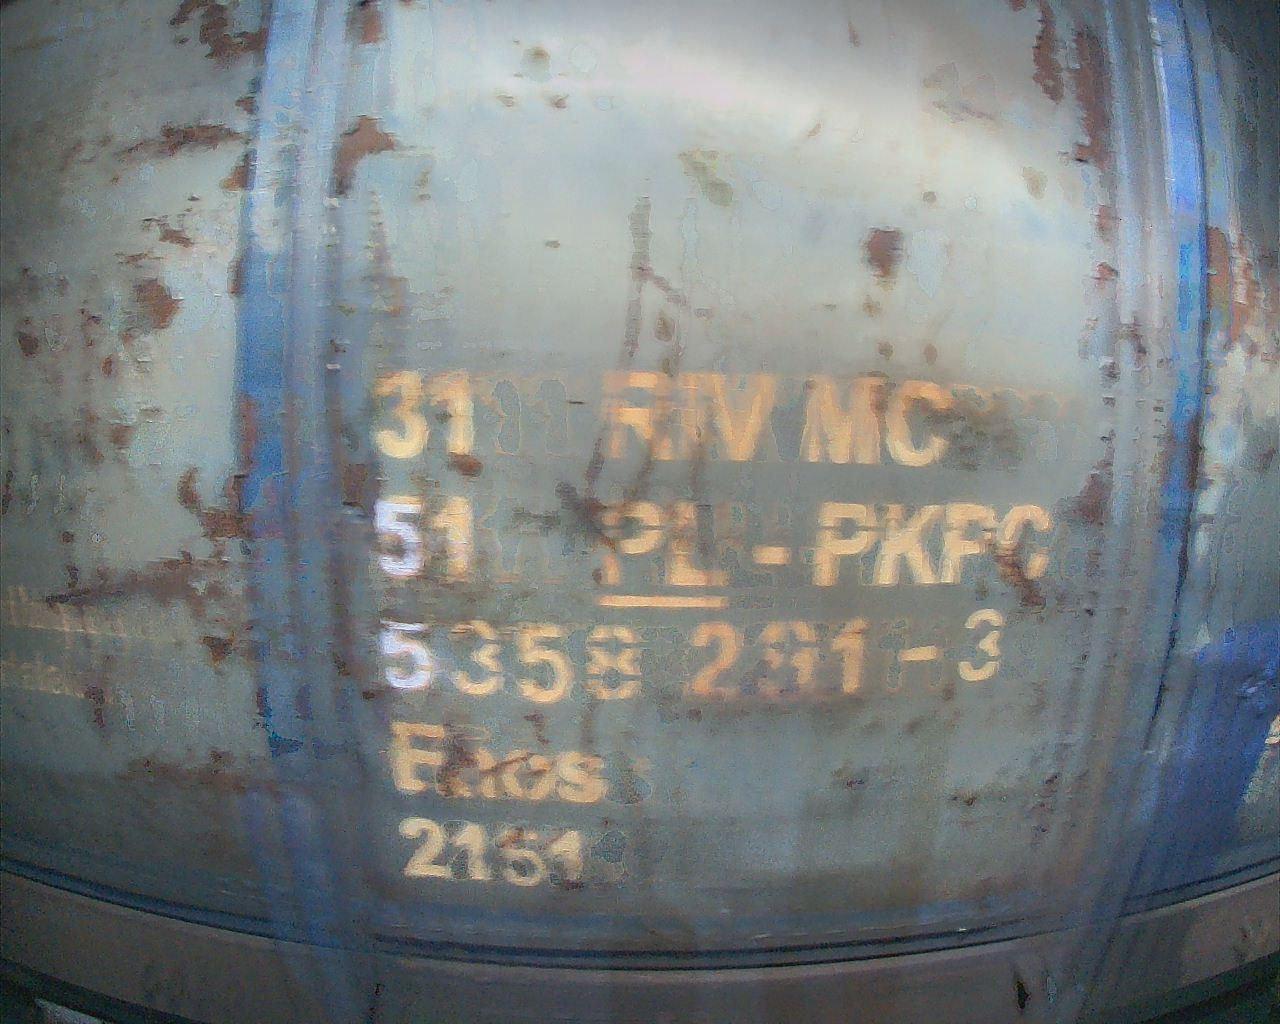UIC: (353, 365, 1061, 902)
